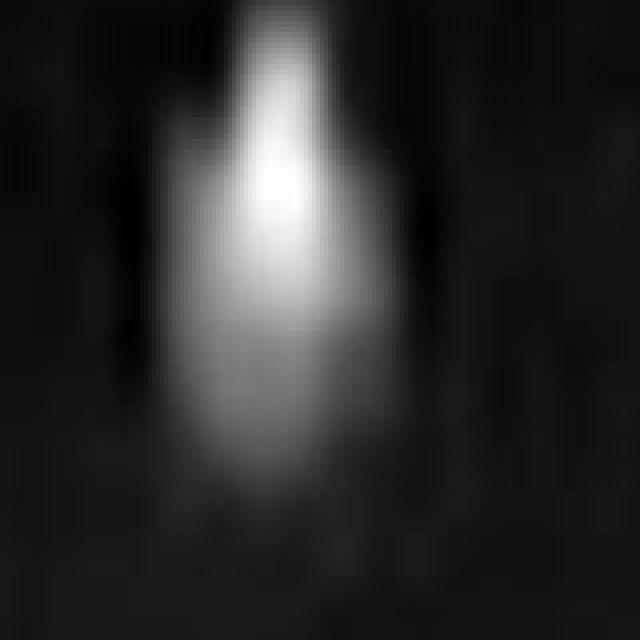person: (141, 1, 417, 518)
